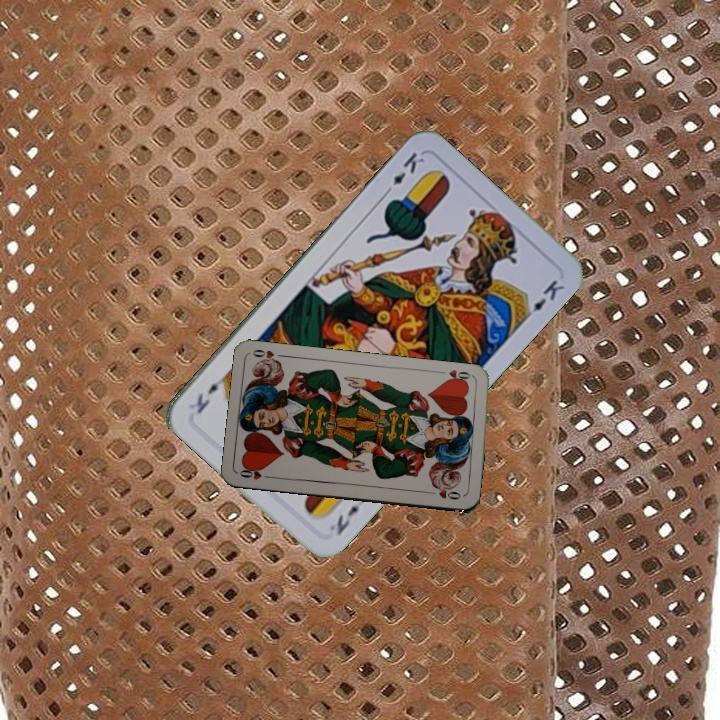EK: (380, 148, 428, 198), (332, 501, 362, 538)
HO: (436, 365, 477, 386), (236, 464, 276, 482)
